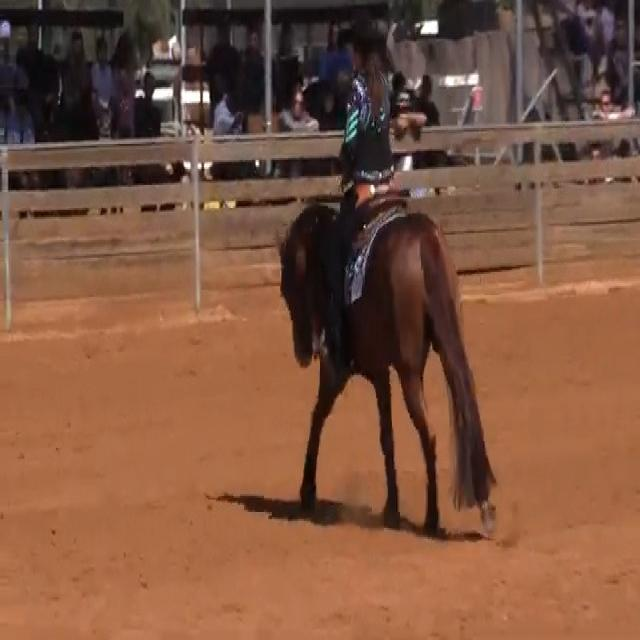horse: (276, 194, 498, 538)
